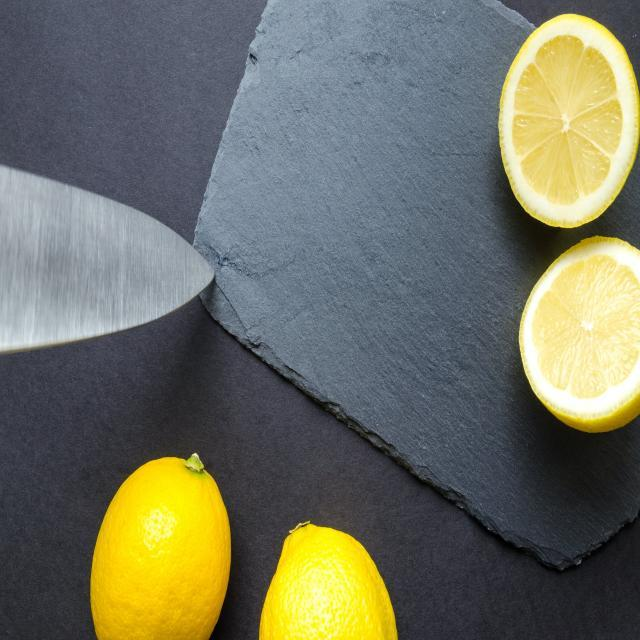Knife: (0, 165, 214, 352)
